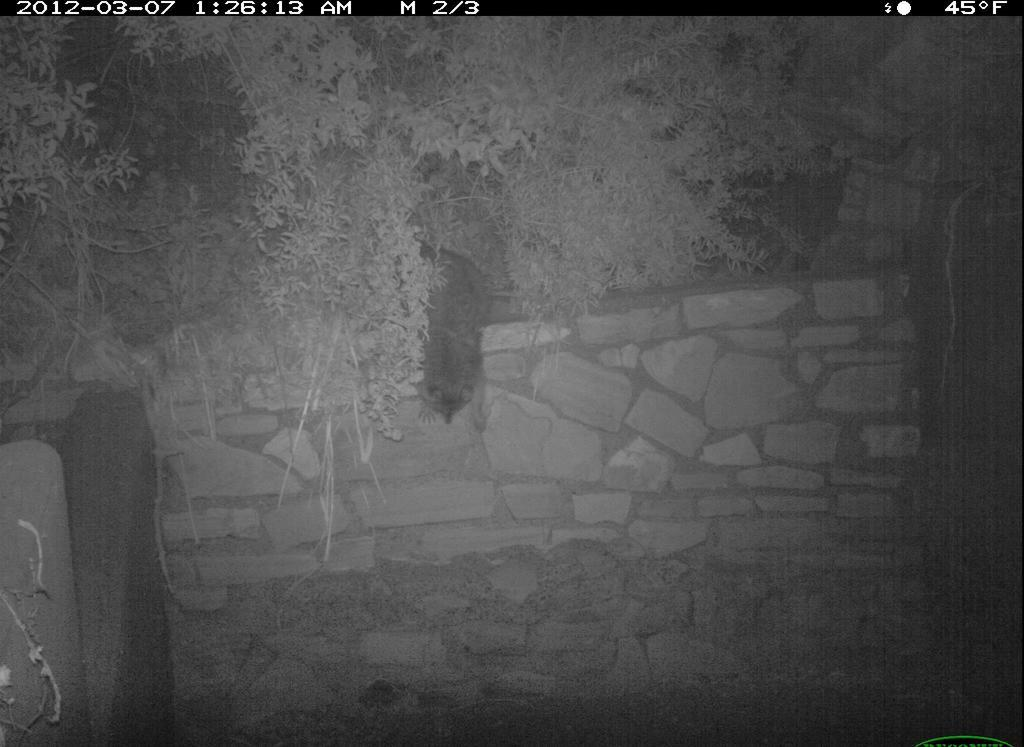raccoon: (401, 231, 496, 438)
